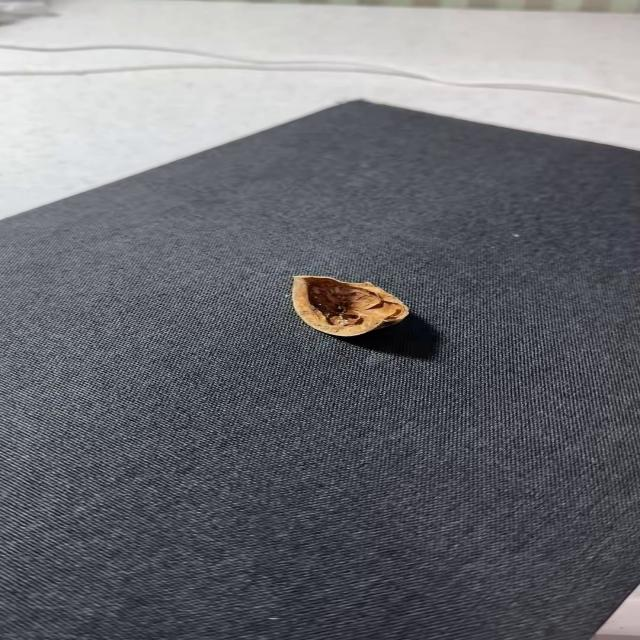nuts-bad0.25: (292, 276, 408, 337)
